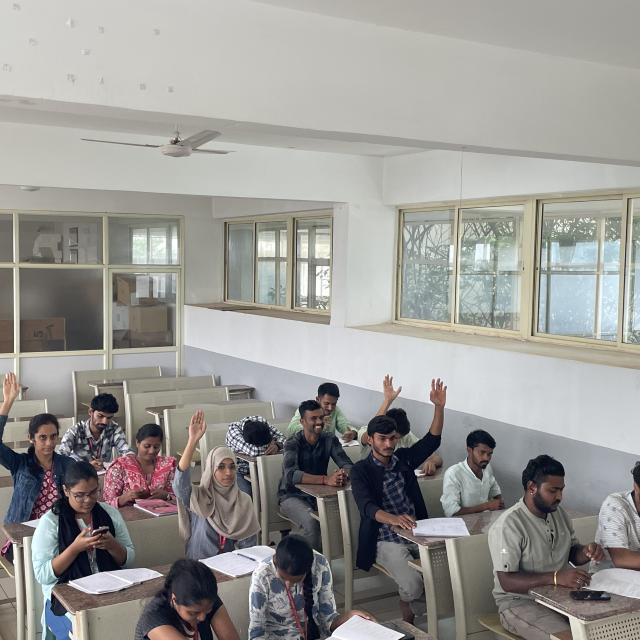Hand Rising: (167, 404, 260, 570), (347, 374, 448, 518), (0, 374, 77, 507)
Reading: (498, 453, 636, 596)
Sleeping: (224, 412, 288, 460)
Using Phone: (39, 458, 141, 578), (108, 422, 180, 506)
